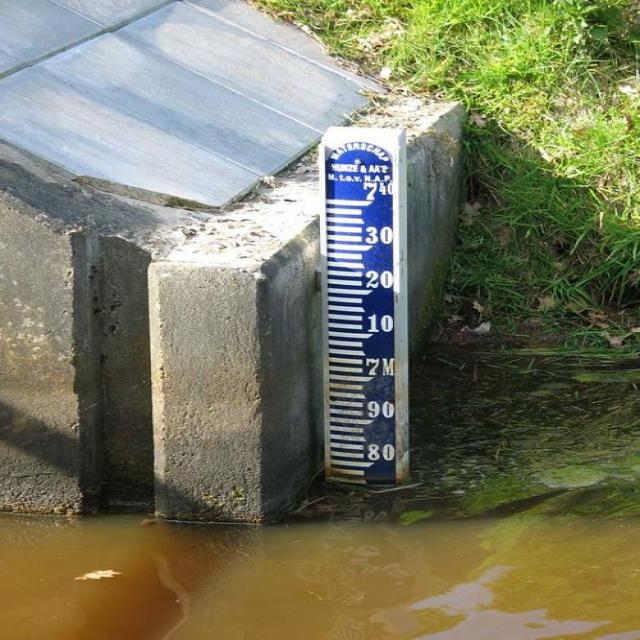ruler: (304, 98, 428, 522)
value: (358, 177, 398, 206), (362, 353, 401, 380), (362, 310, 398, 338), (362, 267, 398, 294), (362, 222, 399, 248), (362, 397, 398, 421)
